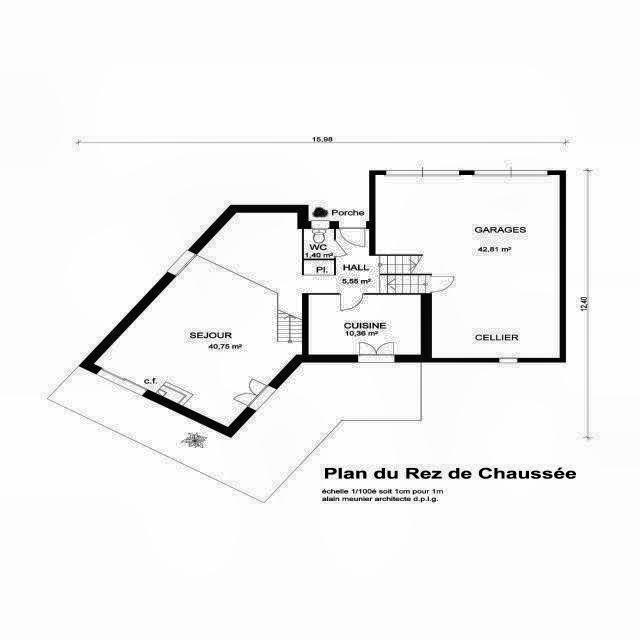room: (88, 183, 370, 463), (376, 175, 560, 357), (303, 229, 430, 293), (309, 295, 420, 355), (304, 229, 334, 259), (304, 260, 334, 275)
